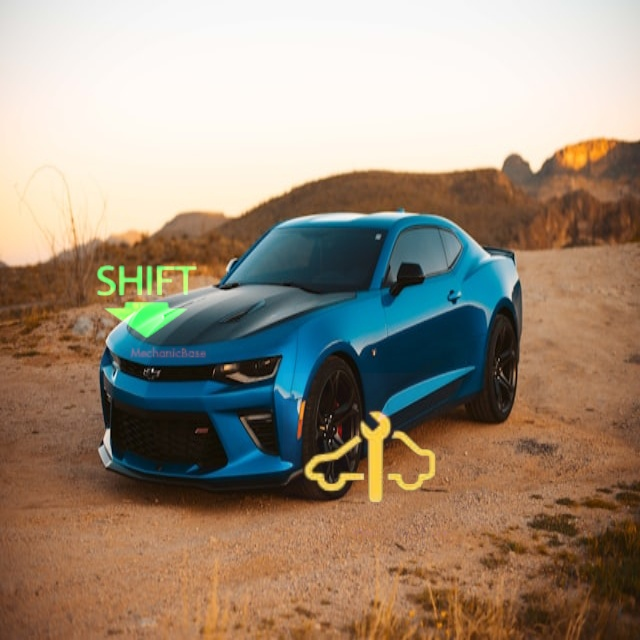symbol: (283, 373, 456, 546), (79, 232, 211, 364)
